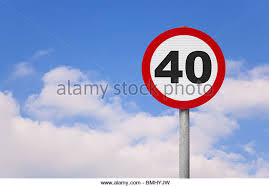Speed_limit_40km: (141, 27, 227, 109)
